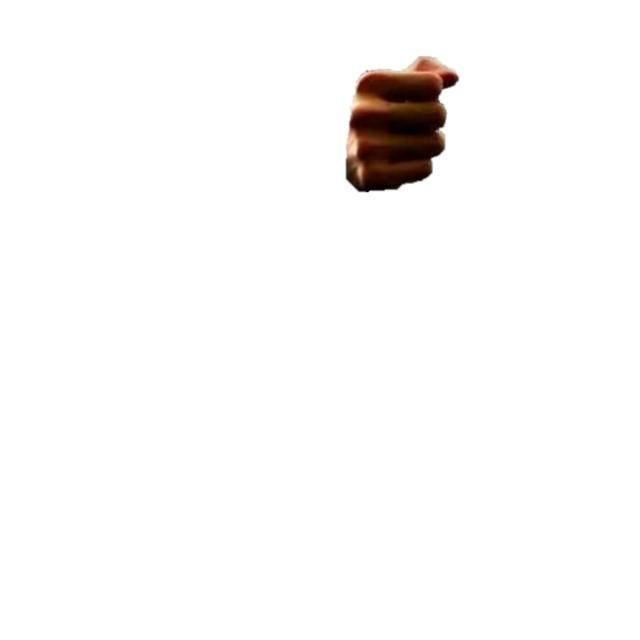gu-: (342, 52, 461, 195)
